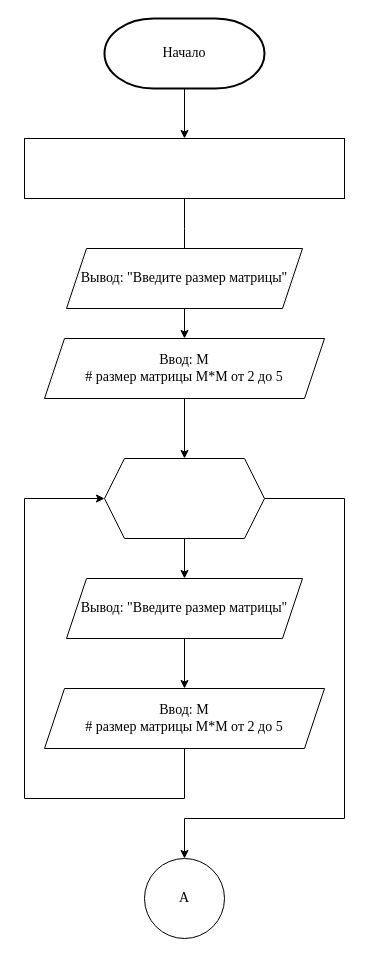
The diagram is 370 pixels wide and 956 high, and some of its shapes have lost their labels. Each missing label, with the centre of its shape:
numbers = ["1", "2", "3", "4", "5", "6", "7", "8", "9"]: (184,168)
Пока (M < 2 или M > 5): (184,498)
